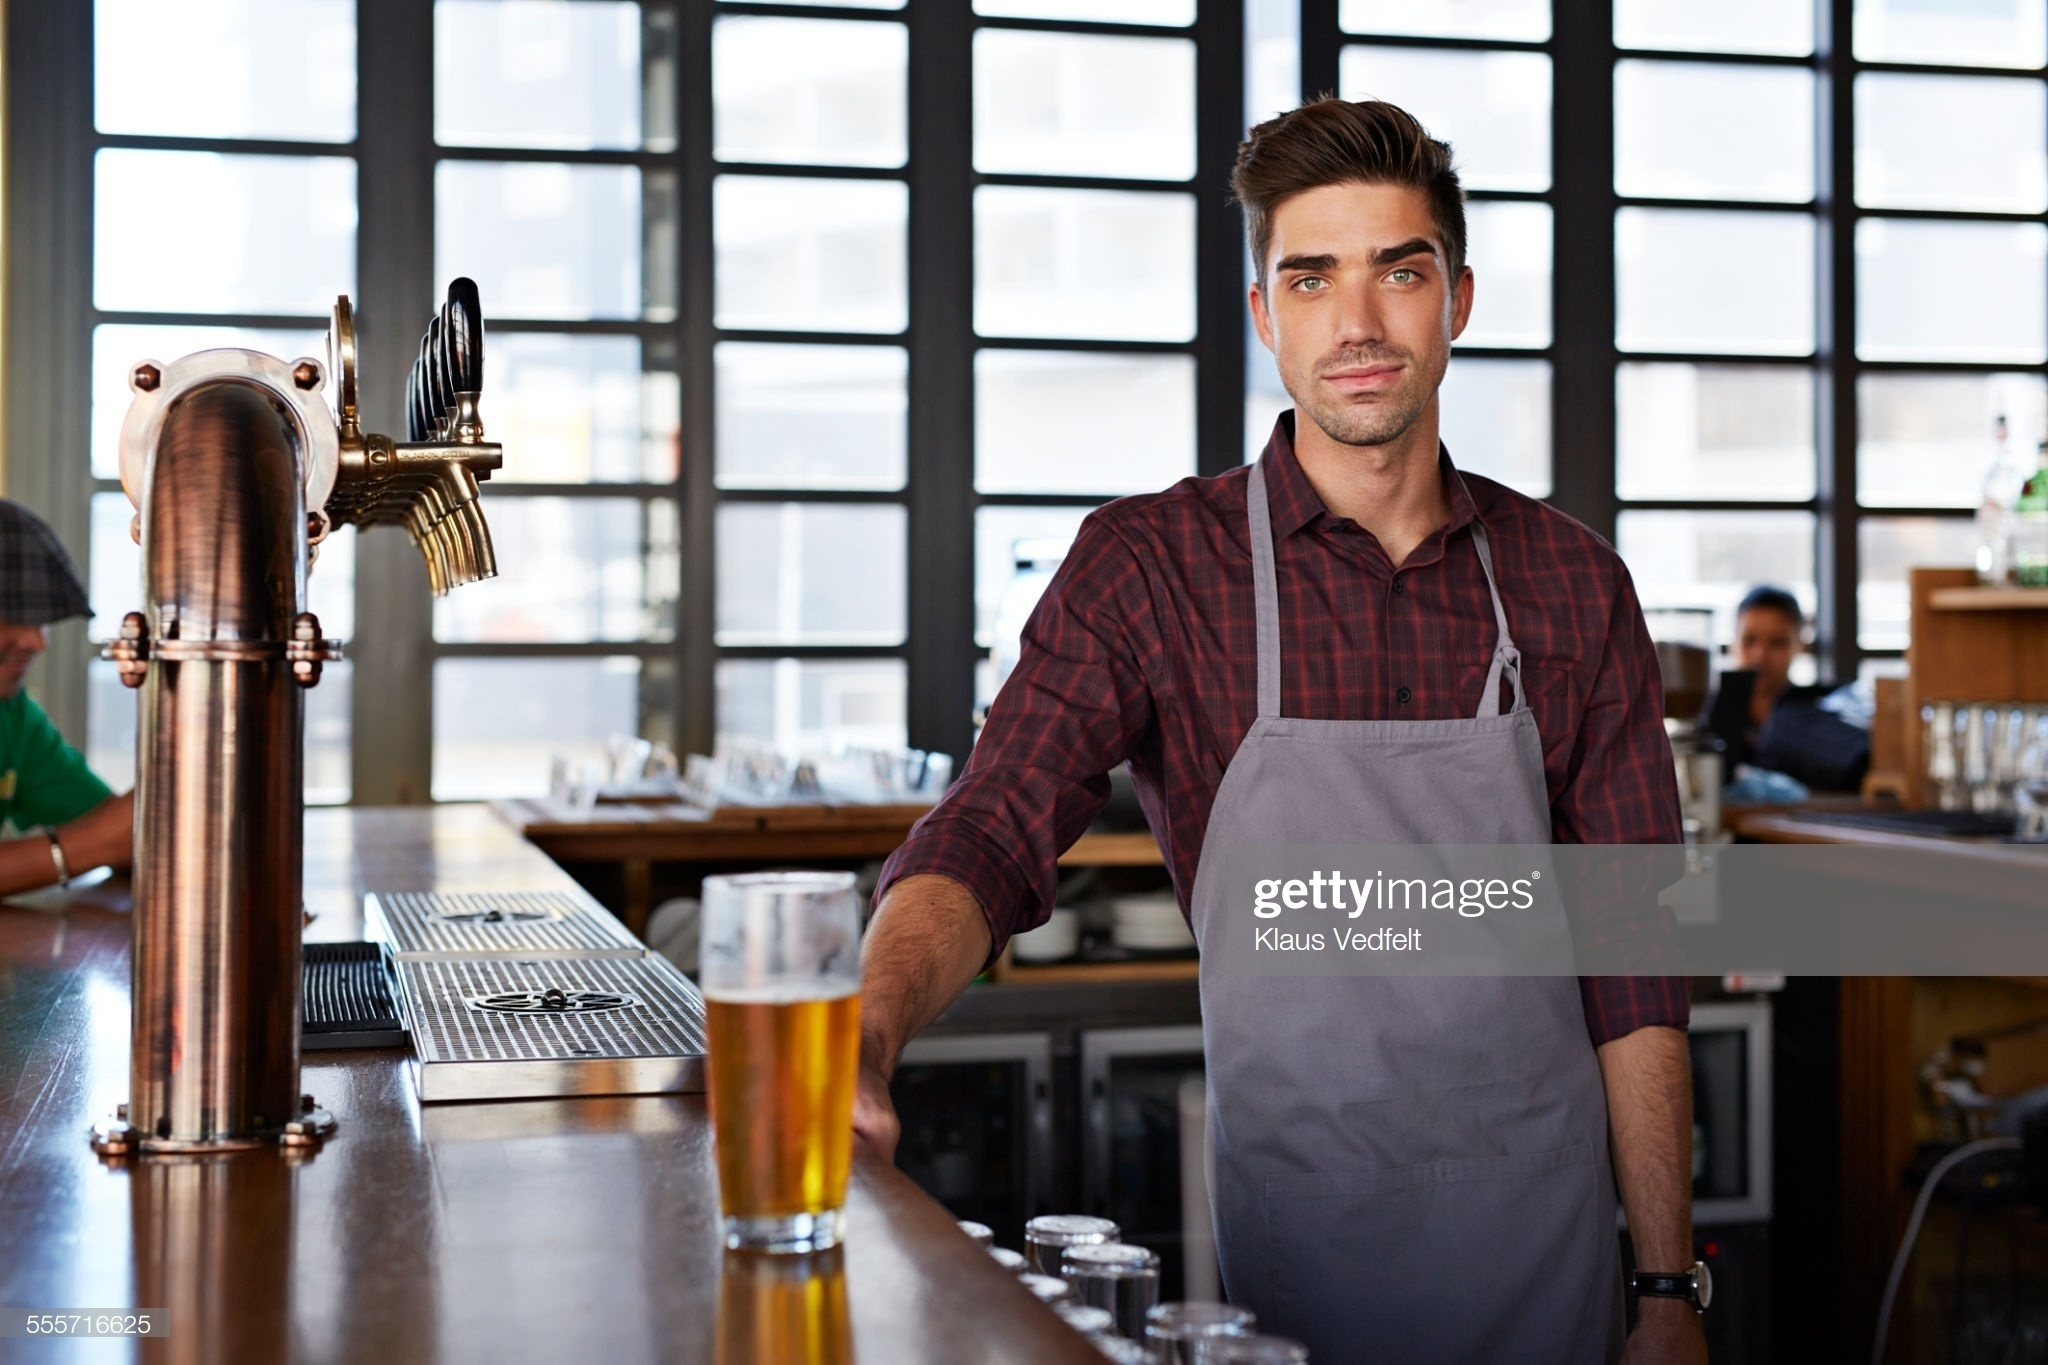whiskey: (693, 862, 865, 1260)
